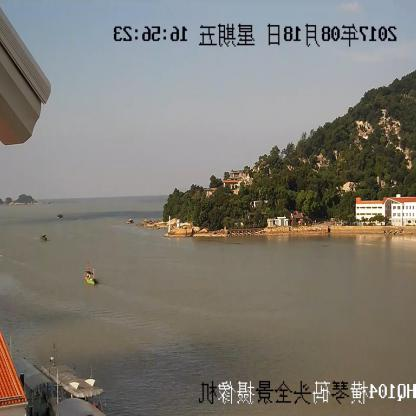Fishing Boat: (84, 270, 98, 284)
